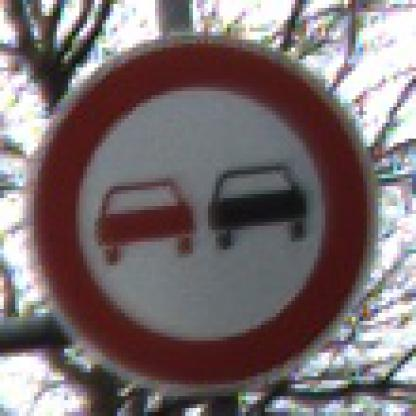No Overtaking: (35, 37, 379, 381)
